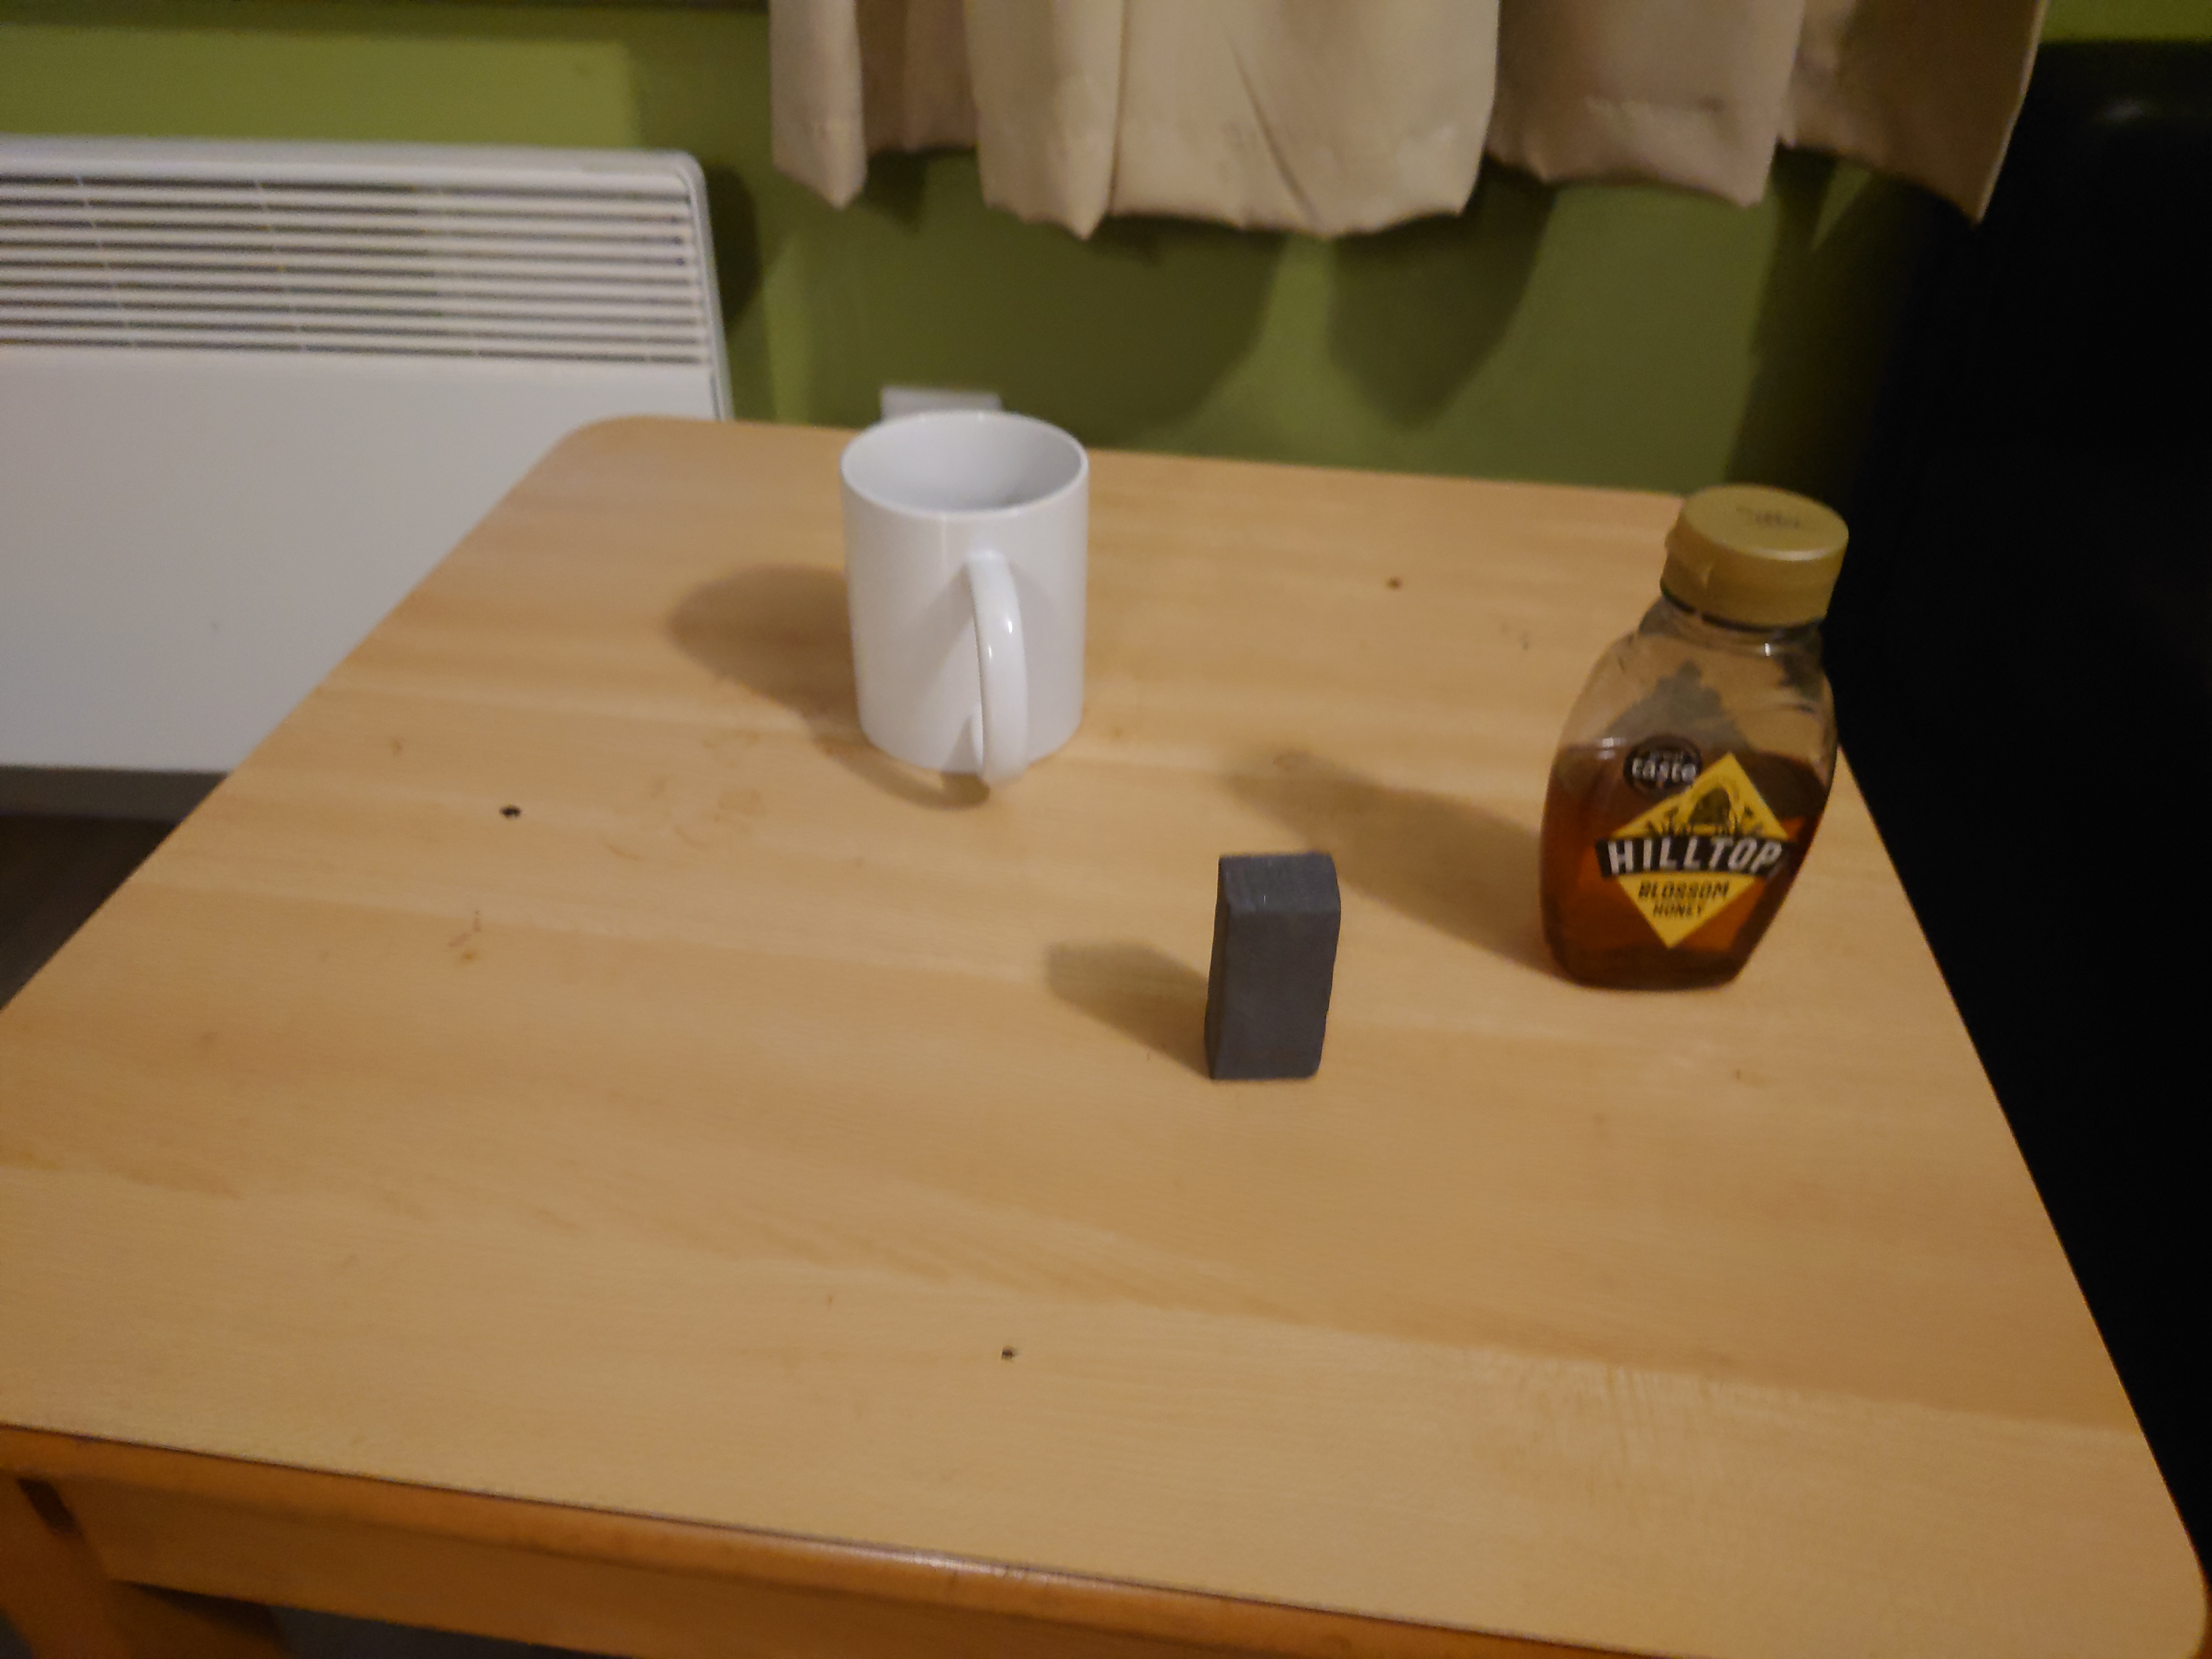cup: (836, 408, 1094, 796)
target: (1204, 833, 1341, 1091)
